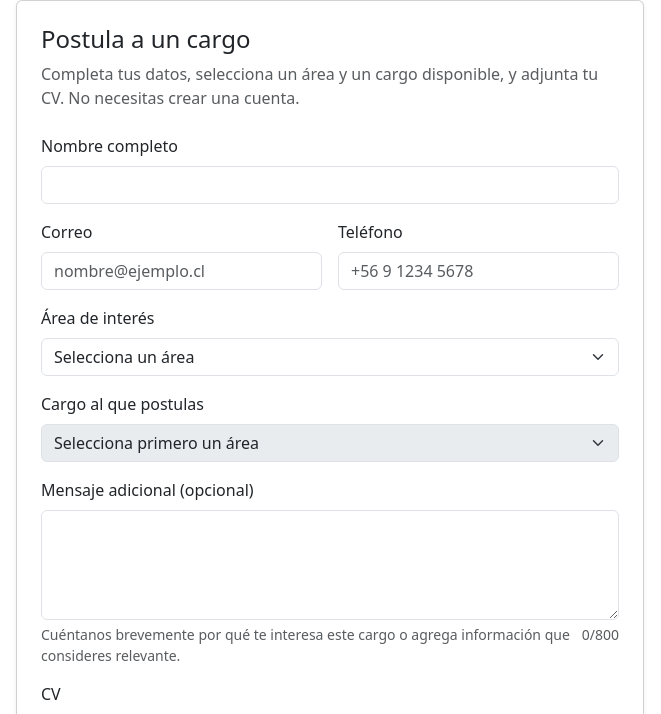
Test: Postular (formulario público) › catálogo de cargos › muestra solamente los cargos correspondientes al área seleccionada
Select "Operaciones" in the dropdown labelled "Área de interés" at (330, 357), box [41,338,619,376]
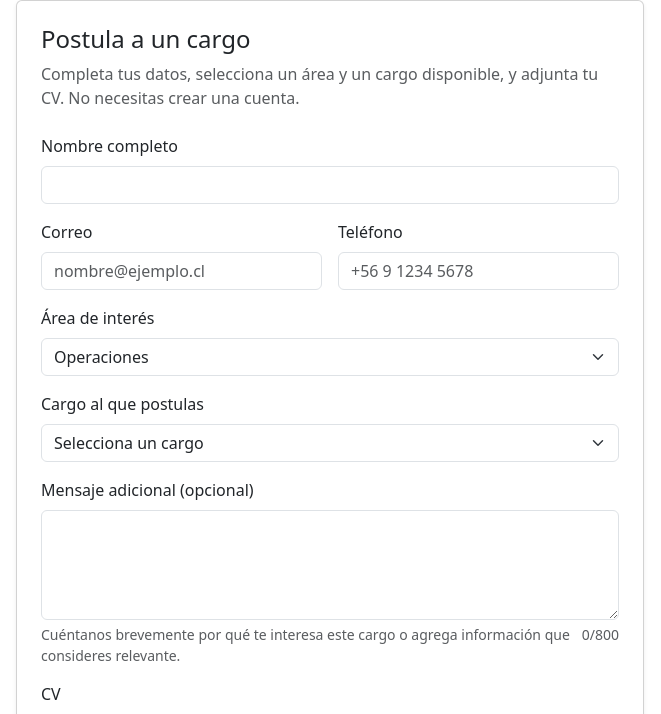
Expected: the dropdown labelled "Cargo al que postulas" is enabled, [41,424,619,462]
